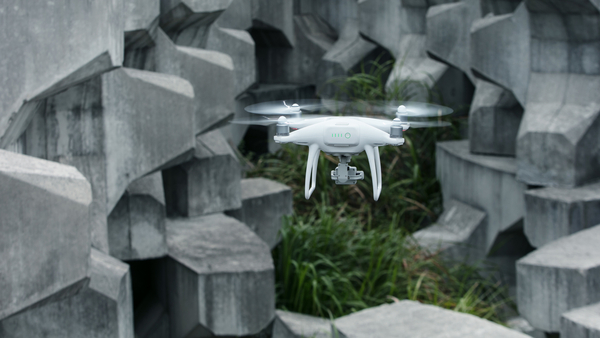drone: (229, 93, 454, 202)
